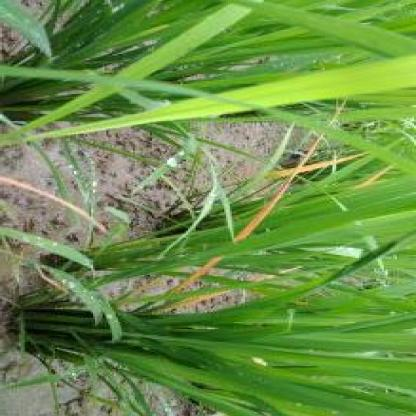Tungro: (16, 52, 416, 141)
